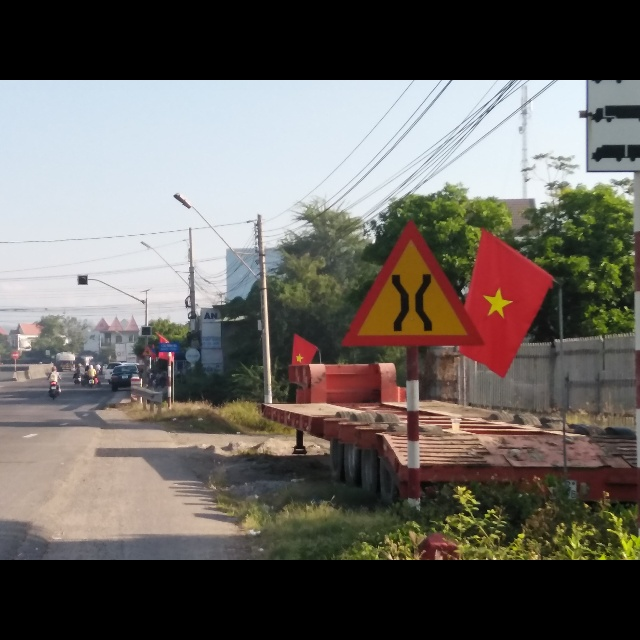Cầu hẹp: (340, 213, 488, 349)
